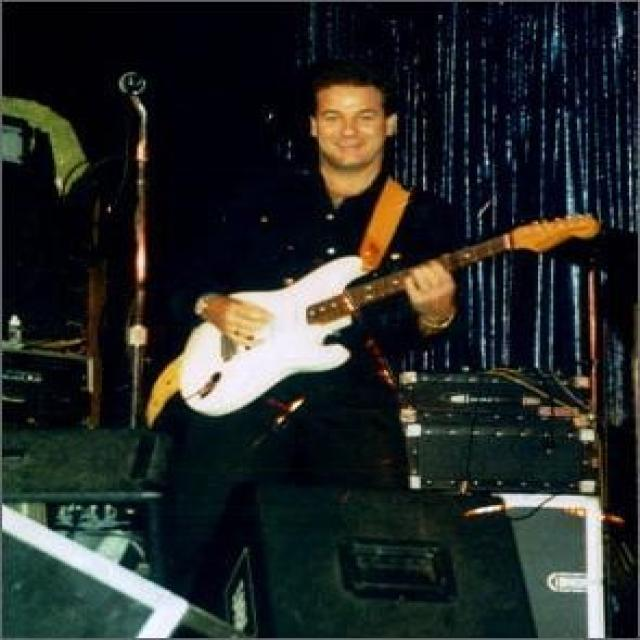guitar: (178, 211, 602, 420)
